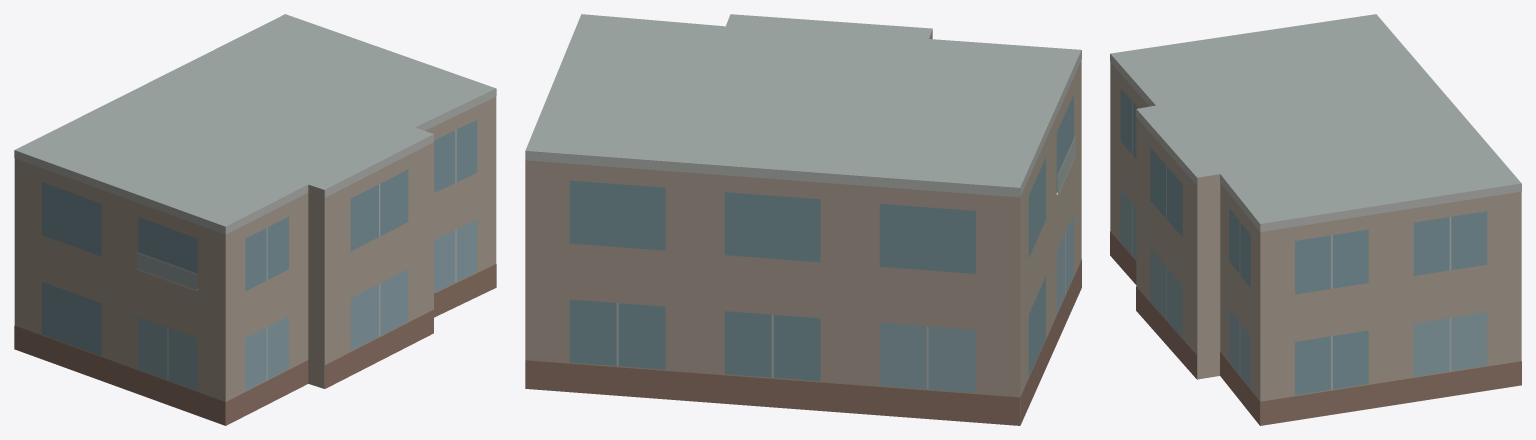
Rendered from survey-upis-32720193.glb.
The picture shows the model from 3 angles, left to right: view 1: azimuth 30°, elevation 25°; view 2: azimuth 150°, elevation 25°; view 3: azimuth 270°, elevation 25°; orthographic projection. The views are drawn at different scales.
Visible parts, largest first — view 1: survey-upis-32720193.tmp; view 2: survey-upis-32720193.tmp; view 3: survey-upis-32720193.tmp.
Part boxes in pixels (x1,y1,x2,y2): survey-upis-32720193.tmp: [14, 14, 496, 425]; survey-upis-32720193.tmp: [525, 14, 1081, 425]; survey-upis-32720193.tmp: [1110, 14, 1521, 425].
Bounding box in the file's own units: 13.62 × 6.1 × 11.28.
